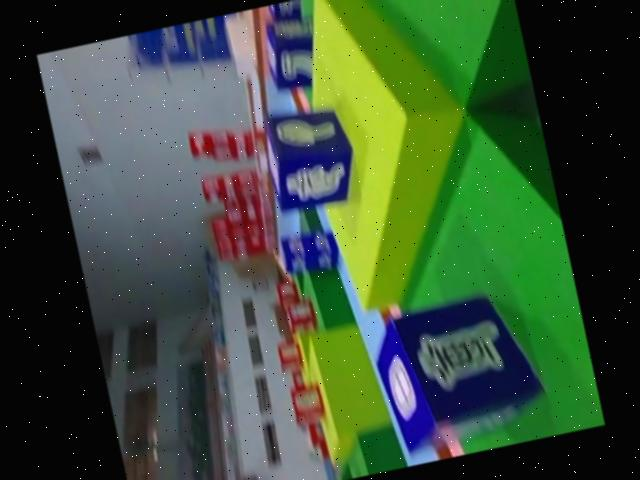R2 Fake Blue: (366, 288, 548, 459), (256, 104, 362, 214), (254, 13, 325, 95), (265, 0, 310, 22)
